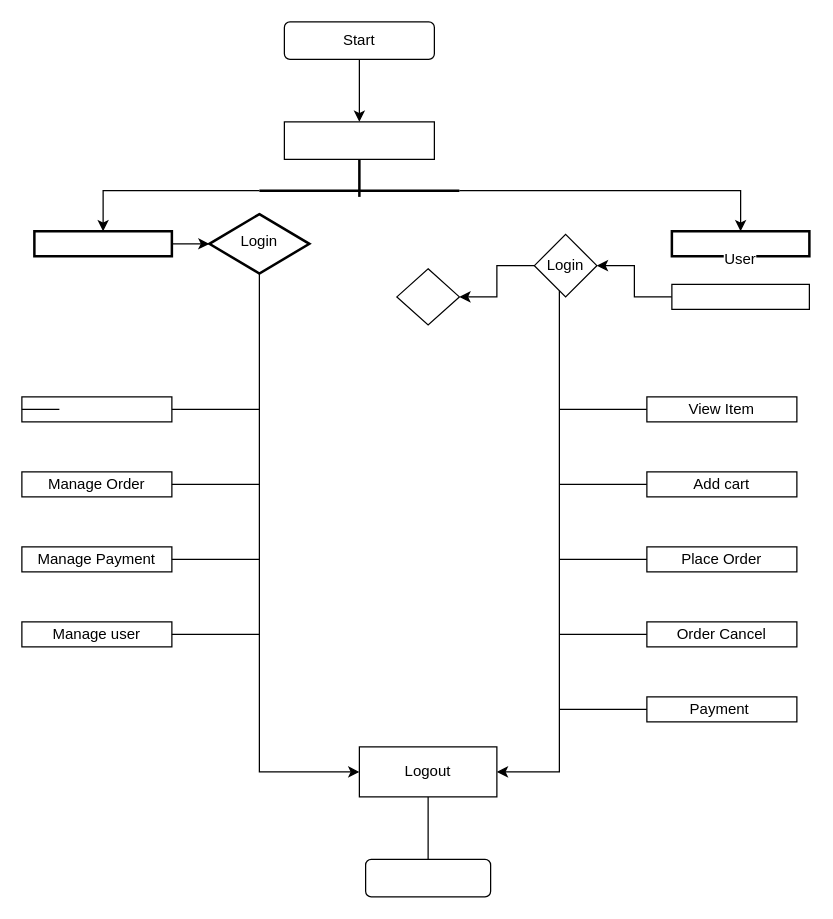
The diagram is 833 pixels wide and 919 high, and some of its shapes have lost their labels. The box of each missing label's shape, as (x1, y1, x2, y2) in pixels:
Admin: (32, 229, 172, 257)
End: (364, 858, 491, 897)
Manage Item: (21, 396, 172, 422)
Online food ordering system: (283, 121, 434, 159)
Reg: (396, 268, 459, 325)
Show Item: (671, 283, 809, 309)
